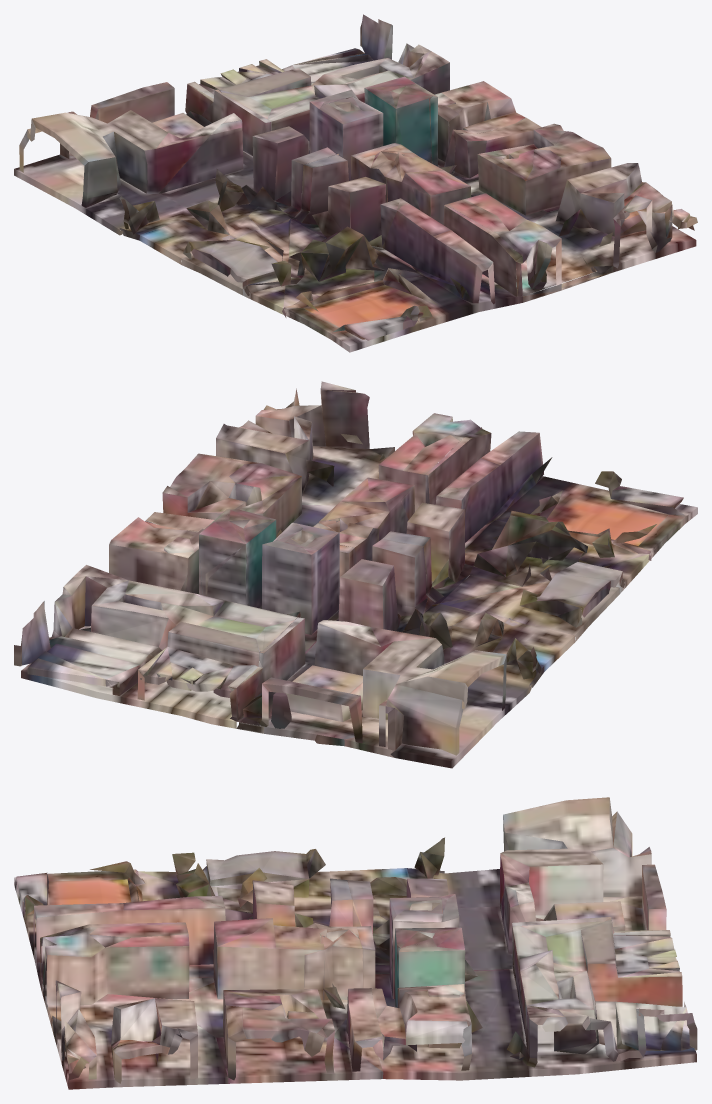
The picture shows the model from 3 angles, top to bottom: view 1: azimuth 30°, elevation 25°; view 2: azimuth 150°, elevation 25°; view 3: azimuth 270°, elevation 25°; orthographic projection. The views are drawn at different scales.
Visible parts, largest first — view 1: Mesh_0; view 2: Mesh_0; view 3: Mesh_0.
Part boxes in pixels (<box>): Mesh_0: <box>14,14,697,352</box>; Mesh_0: <box>14,381,697,768</box>; Mesh_0: <box>14,797,697,1089</box>.
Bounding box in the file's own units: 267 × 81.89 × 330.
1 material, 1 textured.
